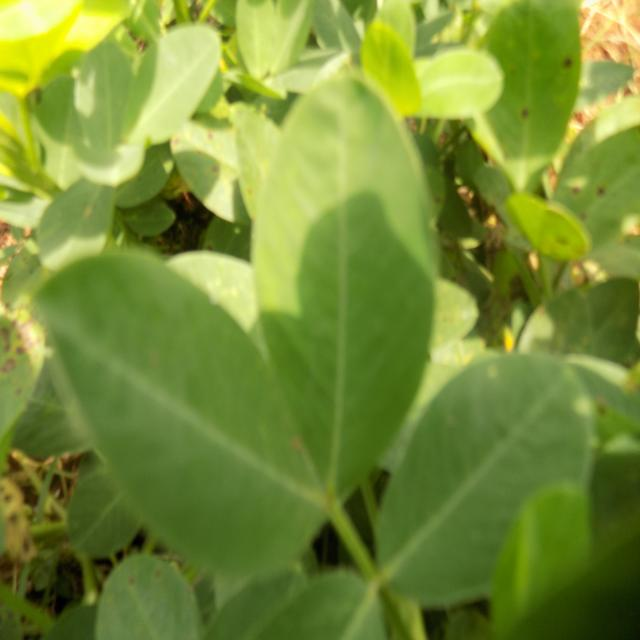Ground nut_healthy: (30, 244, 327, 570), (249, 61, 438, 508), (371, 350, 598, 605)
